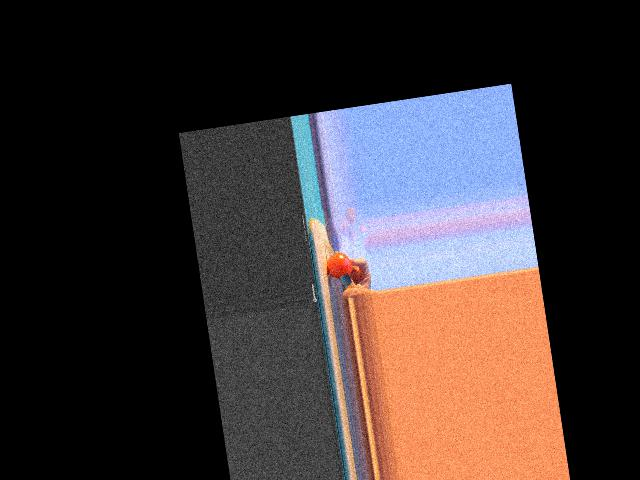tomato: (324, 250, 352, 279)
